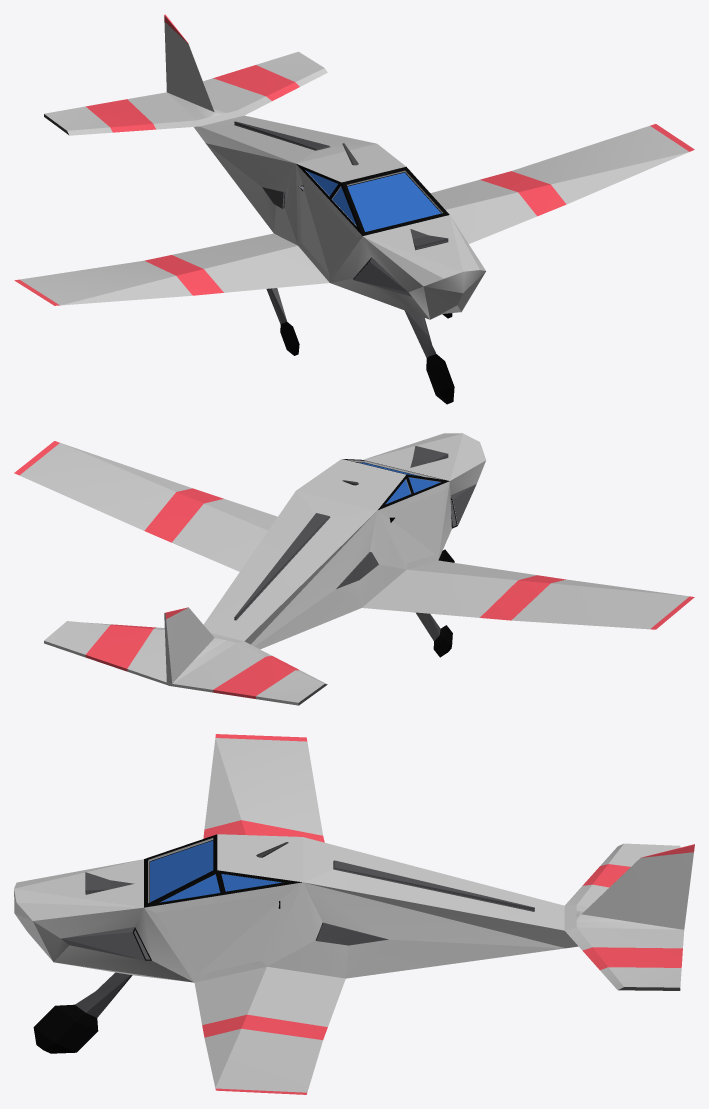
The model's file is PlaneLowPolyblend.fbx.
The picture shows the model from 3 angles, top to bottom: view 1: azimuth 30°, elevation 25°; view 2: azimuth 150°, elevation 25°; view 3: azimuth 270°, elevation 25°; orthographic projection. The views are drawn at different scales.
Visible parts, largest first — view 1: Plane; view 2: Plane; view 3: Plane.
Part boxes in pixels (box(x1,y1,x2,y2)): Plane: box(14, 14, 694, 404); Plane: box(14, 433, 694, 705); Plane: box(14, 734, 694, 1094).
Size of the model in its own units: 310 by 85.46 by 250.
